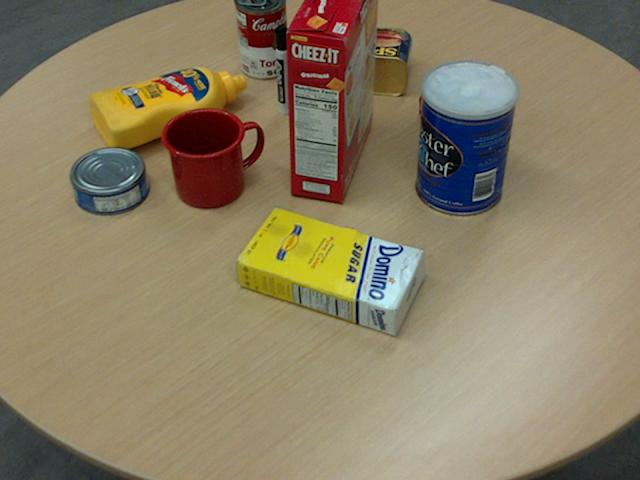cracker_box: (285, 0, 379, 201)
gelatin_box: (419, 65, 504, 130)
large_marker: (275, 23, 291, 112)
master_chef_can: (415, 60, 518, 216)
mug: (160, 105, 262, 206)
mustard_bottle: (89, 65, 247, 148)
potted_meat_can: (331, 24, 413, 94)
sugar_box: (233, 207, 425, 336)
tomato_soup_can: (236, 0, 289, 75)
tuna_fish_can: (69, 144, 148, 212)
